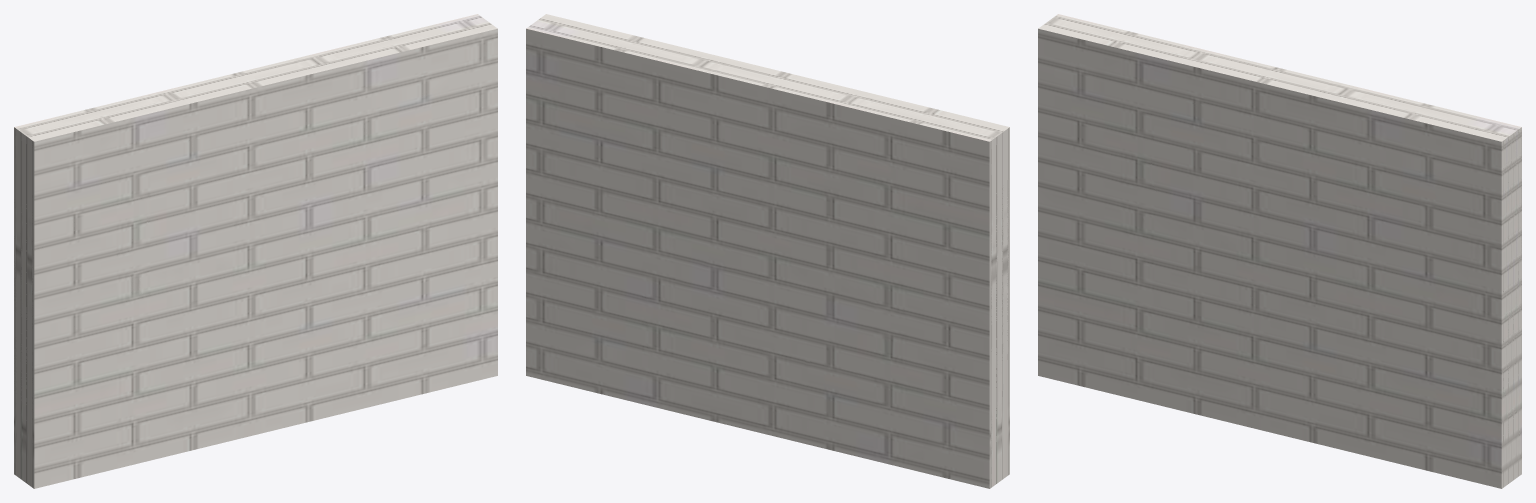
Rendered from Wall_Wall.fbx.
3 views of the same model, side by side, from view 1: azimuth 30°, elevation 25°; view 2: azimuth 150°, elevation 25°; view 3: azimuth 330°, elevation 25° (orthographic).
Visible parts, largest first — view 1: Cube, Cube_cell.013, Cube_cell.061, Cube_cell.078, Cube_cell.075, Cube_cell.047, Cube_cell.009, Cube_cell.021, Cube_cell.073, Cube_cell.066, Cube_cell.085, Cube_cell.018 (+22 smaller); view 2: Cube, Cube_cell.038, Cube_cell.012, Cube_cell.018, Cube_cell.041, Cube_cell.063, Cube_cell.067, Cube_cell.004, Cube_cell.027, Cube_cell.065, Cube_cell.053, Cube_cell.011 (+30 smaller); view 3: Cube, Cube_cell.013, Cube_cell.061, Cube_cell.078, Cube_cell.075, Cube_cell.047, Cube_cell.009, Cube_cell.021, Cube_cell.073, Cube_cell.066, Cube_cell.085, Cube_cell.035 (+21 smaller).
Part boxes in pixels (x1=…): Cube: x1=14, y1=14, x2=497, y2=488; Cube_cell.013: x1=443, y1=28, x2=497, y2=242; Cube_cell.061: x1=230, y1=70, x2=319, y2=247; Cube_cell.078: x1=14, y1=89, x2=249, y2=156; Cube_cell.075: x1=34, y1=150, x2=97, y2=336; Cube_cell.047: x1=317, y1=100, x2=417, y2=229; Cube_cell.009: x1=294, y1=57, x2=465, y2=111; Cube_cell.021: x1=227, y1=103, x2=285, y2=240; Cube_cell.073: x1=422, y1=46, x2=479, y2=227; Cube_cell.066: x1=250, y1=65, x2=376, y2=143; Cube_cell.085: x1=157, y1=223, x2=293, y2=270; Cube_cell.018: x1=14, y1=339, x2=34, y2=488; Cube: x1=526, y1=14, x2=1009, y2=481; Cube_cell.038: x1=700, y1=267, x2=763, y2=421; Cube_cell.012: x1=545, y1=242, x2=613, y2=396; Cube_cell.018: x1=959, y1=339, x2=1009, y2=488; Cube_cell.041: x1=667, y1=313, x2=712, y2=417; Cube_cell.063: x1=526, y1=238, x2=587, y2=390; Cube_cell.067: x1=592, y1=258, x2=637, y2=402; Cube_cell.004: x1=935, y1=341, x2=983, y2=481; Cube_cell.027: x1=870, y1=313, x2=922, y2=457; Cube_cell.065: x1=906, y1=331, x2=952, y2=472; Cube_cell.053: x1=770, y1=391, x2=881, y2=462; Cube_cell.011: x1=714, y1=399, x2=836, y2=451; Cube: x1=1038, y1=14, x2=1521, y2=488; Cube_cell.013: x1=1447, y1=127, x2=1521, y2=350; Cube_cell.061: x1=1246, y1=67, x2=1323, y2=261; Cube_cell.078: x1=1038, y1=28, x2=1273, y2=106; Cube_cell.075: x1=1038, y1=37, x2=1100, y2=241; Cube_cell.047: x1=1321, y1=166, x2=1421, y2=254; Cube_cell.009: x1=1298, y1=93, x2=1469, y2=173; Cube_cell.021: x1=1231, y1=91, x2=1289, y2=250; Cube_cell.073: x1=1426, y1=150, x2=1483, y2=314; Cube_cell.066: x1=1274, y1=71, x2=1380, y2=170; Cube_cell.085: x1=1161, y1=197, x2=1297, y2=264; Cube_cell.035: x1=1295, y1=77, x2=1493, y2=154.
Bounding box in the file's own units: 280 × 200 × 20.95.
